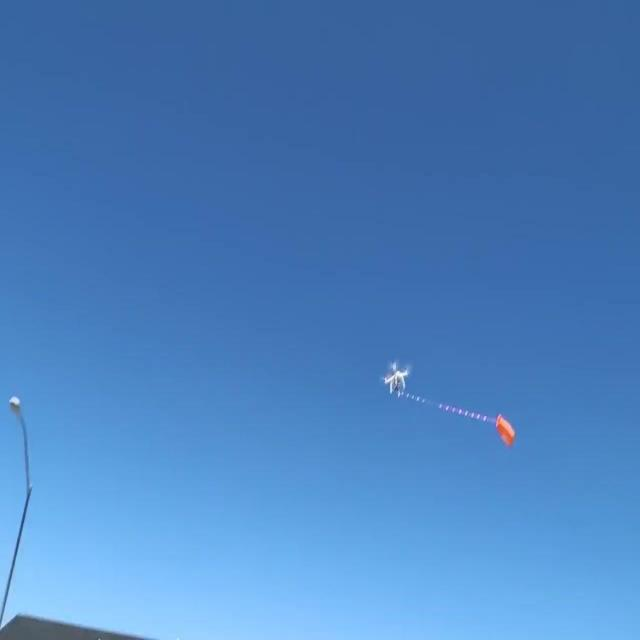UAV: (382, 362, 410, 398)
